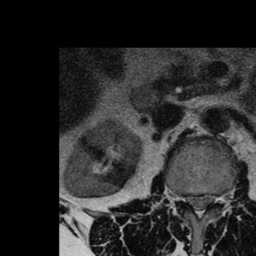CCS_normal: (195, 187, 203, 226)
LFS_stenosis: (213, 185, 223, 213)
LLS_normal: (203, 186, 213, 213)
RFS_stenosis: (176, 183, 185, 210)
RLS_normal: (185, 186, 195, 213)
